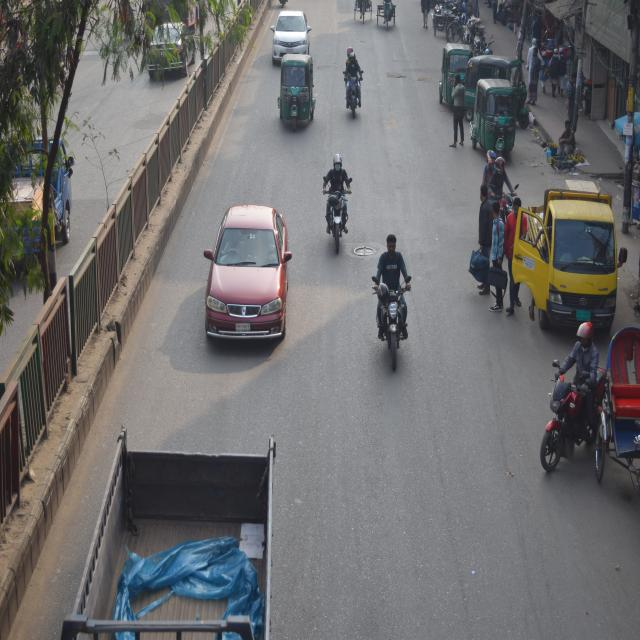car: (194, 195, 316, 376), (268, 10, 318, 59)
motorbike: (530, 329, 622, 483), (366, 249, 424, 375), (333, 31, 381, 123), (316, 152, 353, 255)
pickup-van: (491, 165, 636, 322)
